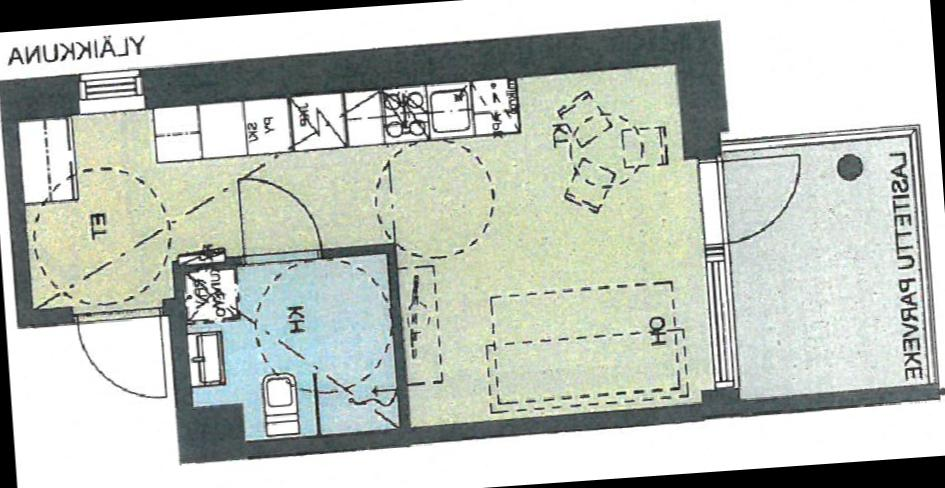door: (697, 150, 808, 248), (72, 300, 171, 408), (227, 166, 325, 264)
window: (700, 240, 742, 396), (66, 64, 151, 121)
